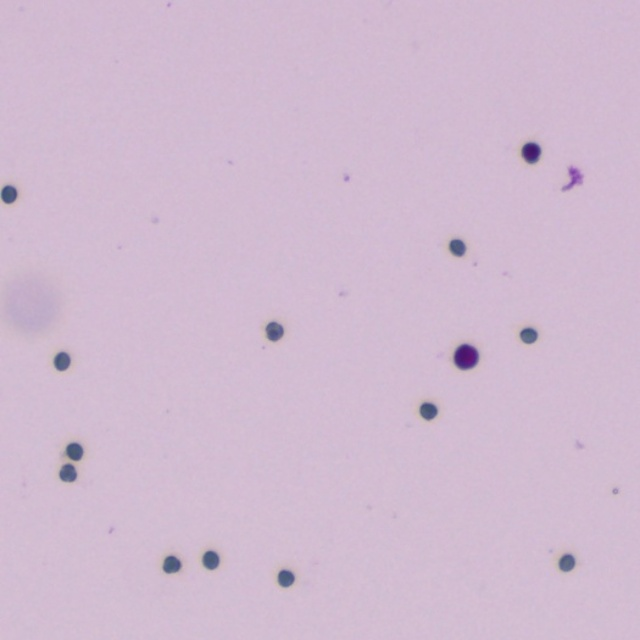non_viable: (58, 463, 76, 481), (419, 402, 437, 419), (266, 322, 283, 340), (448, 239, 465, 256), (519, 327, 537, 343), (163, 556, 181, 572), (558, 553, 574, 571), (278, 569, 294, 586), (202, 551, 218, 568), (54, 352, 70, 369), (0, 185, 16, 202), (67, 444, 81, 458)
viable: (453, 344, 478, 368), (522, 143, 540, 162)
